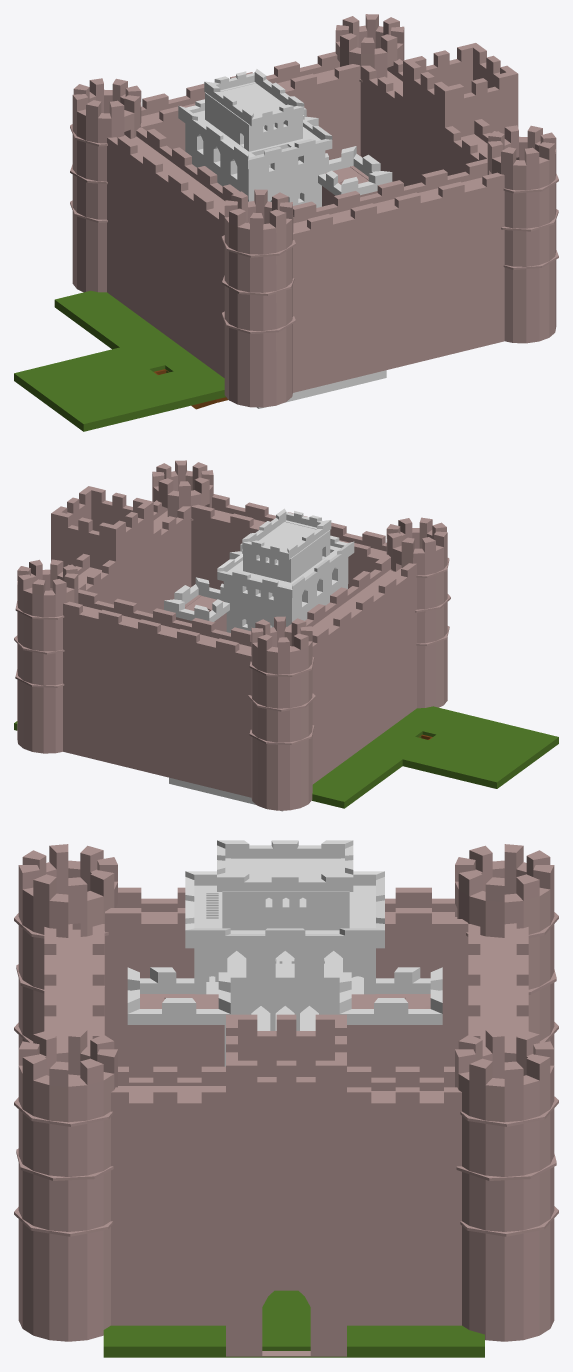
Rendered from all.glb.
3 renders of one model, top to bottom at view 1: azimuth 30°, elevation 25°; view 2: azimuth 150°, elevation 25°; view 3: azimuth 270°, elevation 25°, orthographic. The views are drawn at different scales.
Parts seen in each view (by area): view 1: front_gate.002, Cube.434, Cylinder.191, Cylinder.190, Cylinder.189, Cylinder.238, Cube.385, Cube.397, Cube.388, Cube.396, Cube.393, Cube.400 (+2 smaller); view 2: front_gate.002, Cube.434, Cylinder.191, Cylinder.189, Cylinder.190, Cylinder.238, Cube.385, Cube.397, Cube.388, Cube.396, Cube.393, Cube.382 (+2 smaller); view 3: front_gate.002, Cylinder.191, Cylinder.238, Cylinder.190, Cylinder.189, Cube.434, Cylinder.241, Cube.385, Cube.393, Cube.397, Cube.396, Cube.388 (+3 smaller).
Boxes of the visible parts, x1=… form: front_gate.002: x1=72, y1=43, x2=556, y2=407; Cube.434: x1=14, y1=290, x2=225, y2=431; Cylinder.191: x1=72, y1=14, x2=556, y2=254; Cylinder.190: x1=72, y1=134, x2=556, y2=292; Cylinder.189: x1=72, y1=175, x2=556, y2=330; Cylinder.238: x1=407, y1=46, x2=513, y2=185; Cube.385: x1=185, y1=110, x2=325, y2=199; Cube.397: x1=204, y1=69, x2=304, y2=126; Cube.388: x1=205, y1=82, x2=302, y2=151; Cube.396: x1=178, y1=99, x2=332, y2=168; Cube.393: x1=303, y1=108, x2=392, y2=195; Cube.400: x1=257, y1=370, x2=386, y2=408; front_gate.002: x1=17, y1=486, x2=447, y2=810; Cube.434: x1=14, y1=706, x2=558, y2=808; Cylinder.191: x1=17, y1=460, x2=447, y2=674; Cylinder.189: x1=17, y1=602, x2=447, y2=742; Cylinder.190: x1=17, y1=570, x2=447, y2=708; Cylinder.238: x1=55, y1=489, x2=149, y2=613; Cube.385: x1=223, y1=545, x2=348, y2=624; Cube.397: x1=242, y1=508, x2=331, y2=559; Cube.388: x1=243, y1=520, x2=330, y2=582; Cube.396: x1=217, y1=535, x2=354, y2=597; Cube.393: x1=164, y1=543, x2=242, y2=621; Cube.382: x1=226, y1=584, x2=347, y2=632; front_gate.002: x1=18, y1=887, x2=554, y2=1356; Cylinder.191: x1=18, y1=844, x2=554, y2=1122; Cylinder.238: x1=238, y1=1014, x2=334, y2=1356; Cylinder.190: x1=18, y1=924, x2=554, y2=1176; Cylinder.189: x1=18, y1=979, x2=554, y2=1231; Cube.434: x1=103, y1=1290, x2=484, y2=1357; Cylinder.241: x1=133, y1=994, x2=436, y2=1077; Cube.385: x1=194, y1=885, x2=375, y2=994; Cube.393: x1=127, y1=967, x2=442, y2=1024; Cube.397: x1=217, y1=840, x2=353, y2=891; Cube.396: x1=185, y1=871, x2=384, y2=948; Cube.388: x1=222, y1=858, x2=349, y2=930.
Bounding box in the file's own units: 132 × 69.65 × 89.99.
